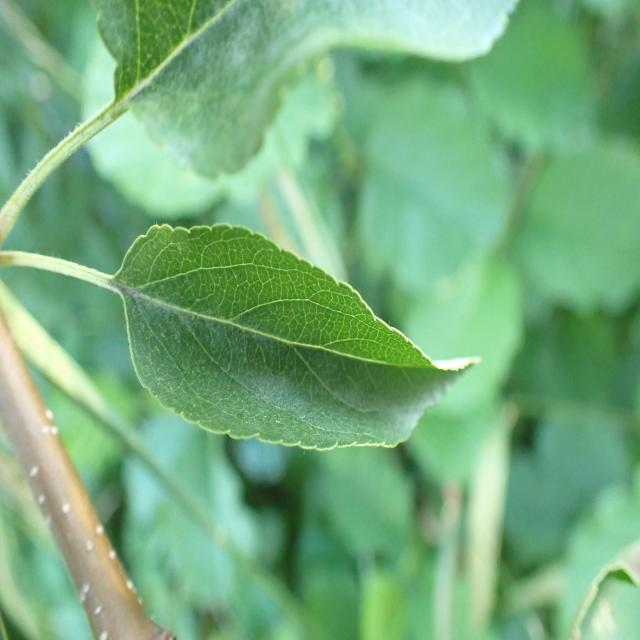Powdery_mildew: (88, 1, 570, 187), (100, 212, 451, 441)
